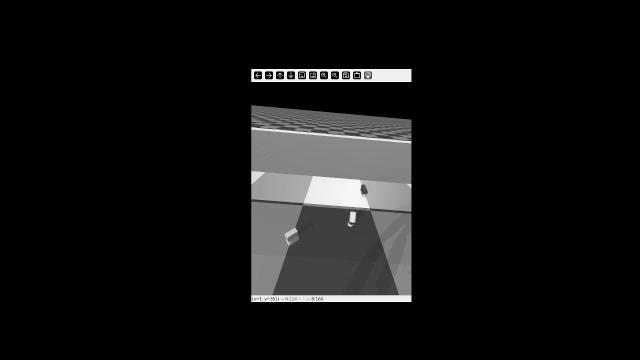cilindro: (346, 207, 361, 227), (359, 182, 370, 196)
rectangulo: (281, 226, 302, 252)
